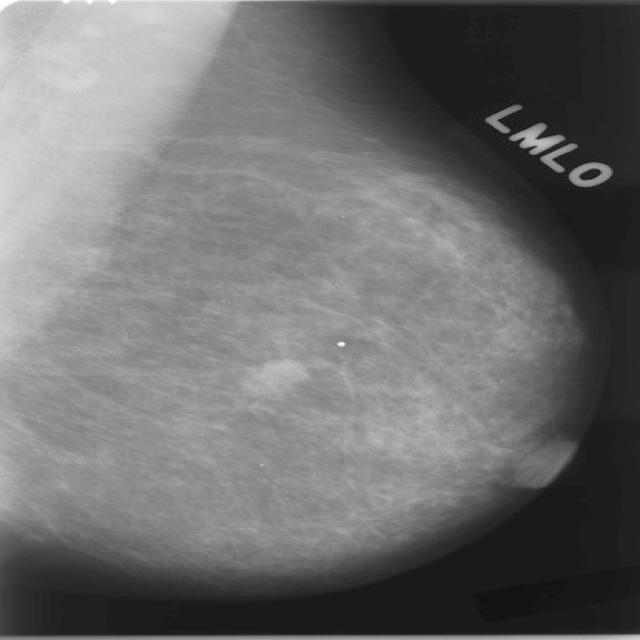tumour: (238, 358, 306, 397)
